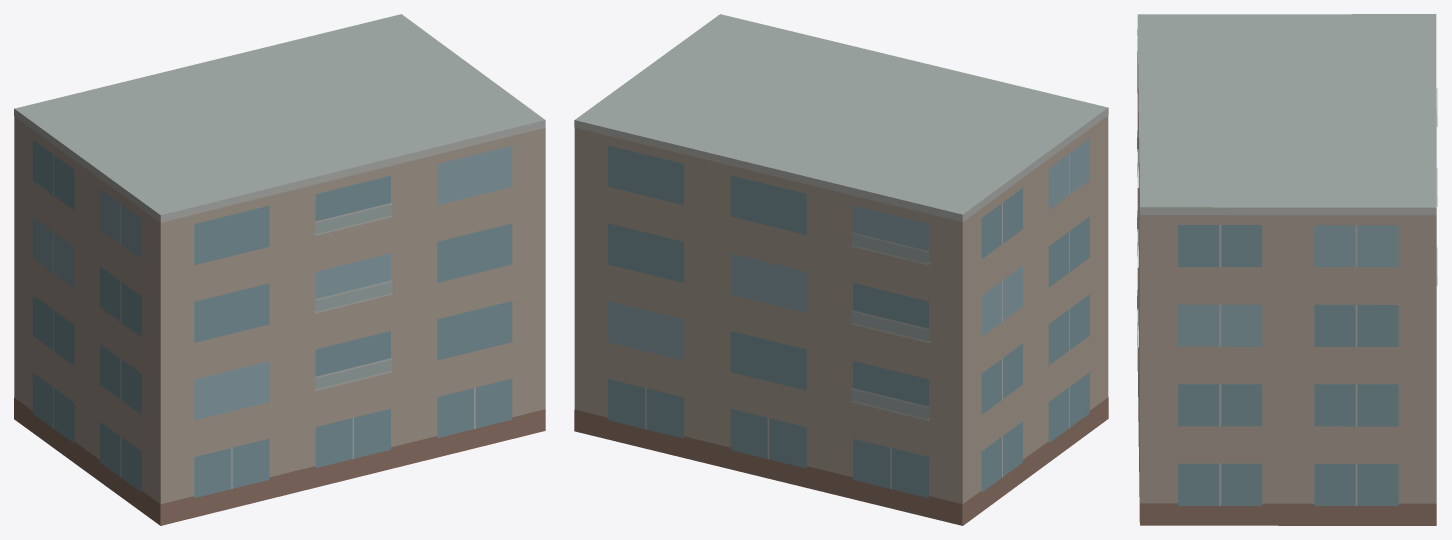
The model's file is survey-upis-33029222.glb.
The picture shows the model from 3 angles, left to right: view 1: azimuth 30°, elevation 25°; view 2: azimuth 150°, elevation 25°; view 3: azimuth 270°, elevation 25°; orthographic projection. The views are drawn at different scales.
Visible parts, largest first — view 1: survey-upis-33029222.tmp; view 2: survey-upis-33029222.tmp; view 3: survey-upis-33029222.tmp.
Part boxes in pixels (x1,y1,x2,y2): survey-upis-33029222.tmp: (14, 14, 545, 525); survey-upis-33029222.tmp: (574, 14, 1108, 525); survey-upis-33029222.tmp: (1137, 14, 1437, 525).
Size of the model in its own units: 13.19 by 10.1 by 8.65.
